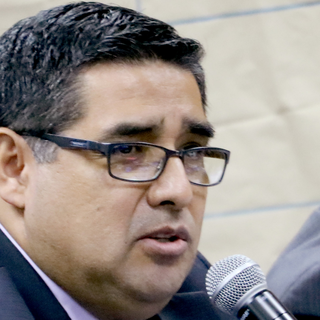eye: (108, 139, 150, 162), (179, 139, 219, 163)
